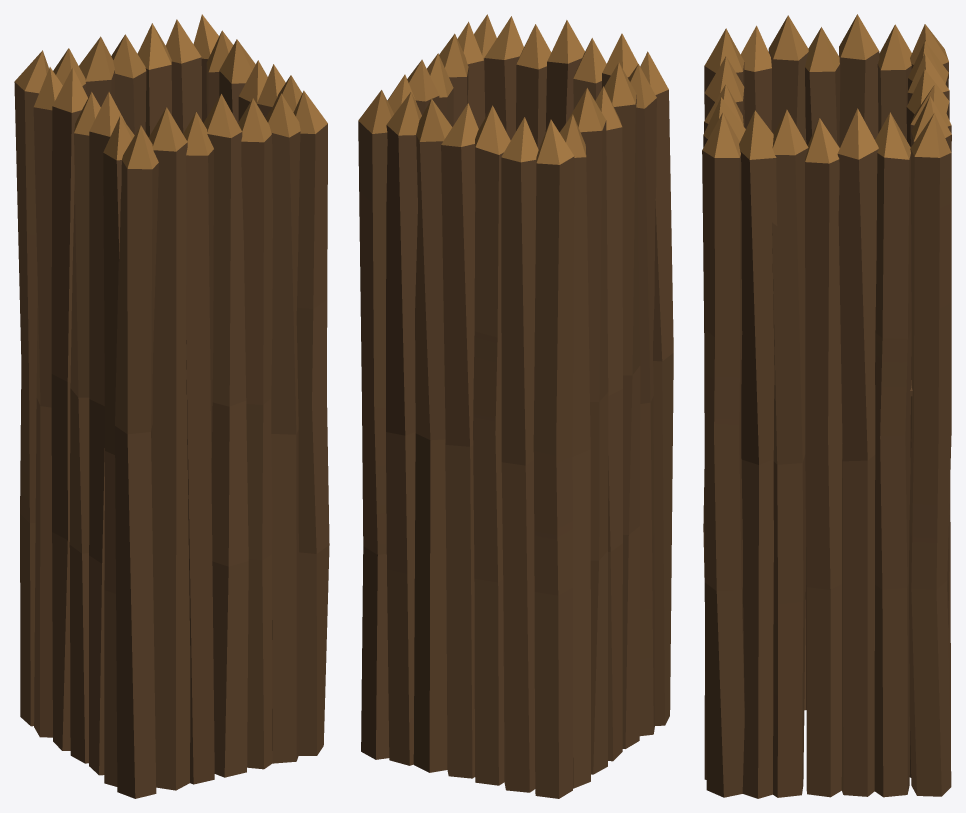
File: medieval_tower-medieval-wood.fbx
The picture shows the model from 3 angles, left to right: view 1: azimuth 30°, elevation 25°; view 2: azimuth 150°, elevation 25°; view 3: azimuth 270°, elevation 25°; orthographic projection. The views are drawn at different scales.
Parts seen in each view (by area): view 1: medieval_tower_medieval_wood; view 2: medieval_tower_medieval_wood; view 3: medieval_tower_medieval_wood.
Part boxes in pixels (x1,y1,x2,y2): medieval_tower_medieval_wood: [14, 14, 329, 798]; medieval_tower_medieval_wood: [358, 14, 673, 798]; medieval_tower_medieval_wood: [702, 14, 951, 798].
Bounding box in the file's own units: 64.57 × 200 × 65.49.
